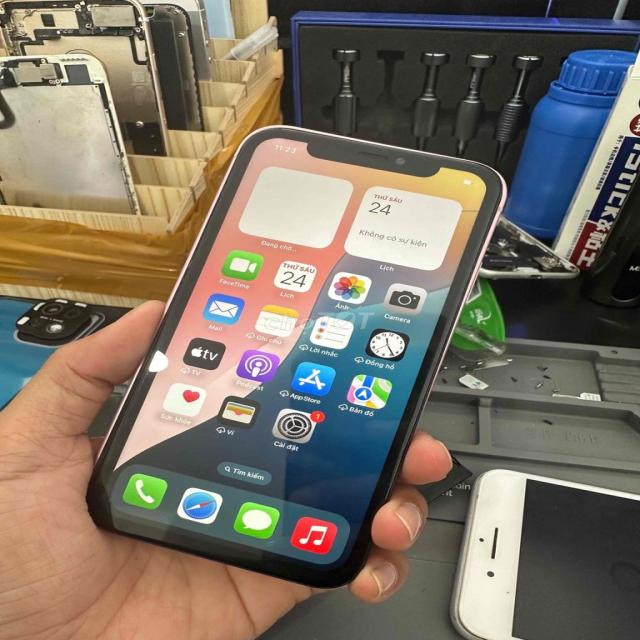gen_x_xs: (88, 127, 505, 587)
